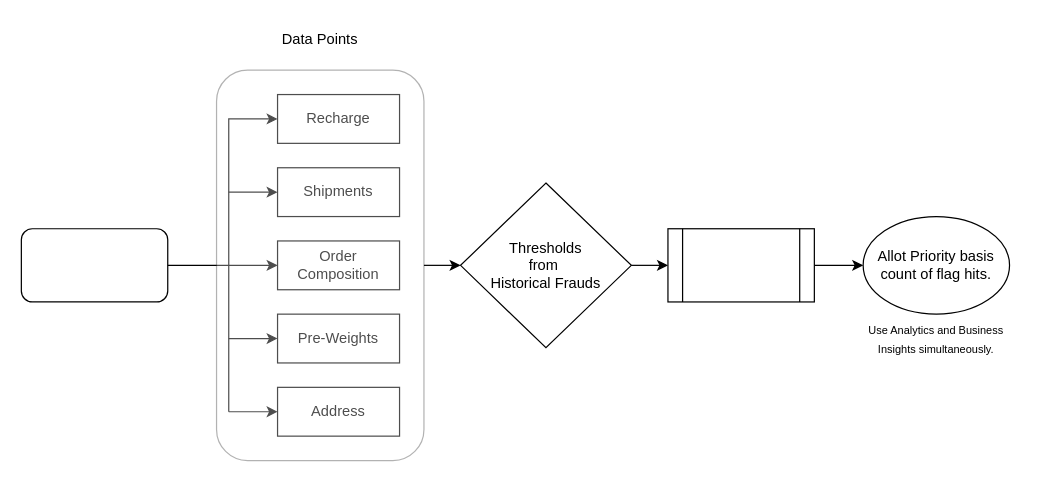
Some shapes in this 1043 by 482 pixel diagram are drawn without their labels. The box of each missing label's shape, as (x1, y1, x2, y2) in pixels:
Build Flags using thresholds: (667, 228, 814, 302)
New Onboarded Seller: (20, 228, 168, 302)
